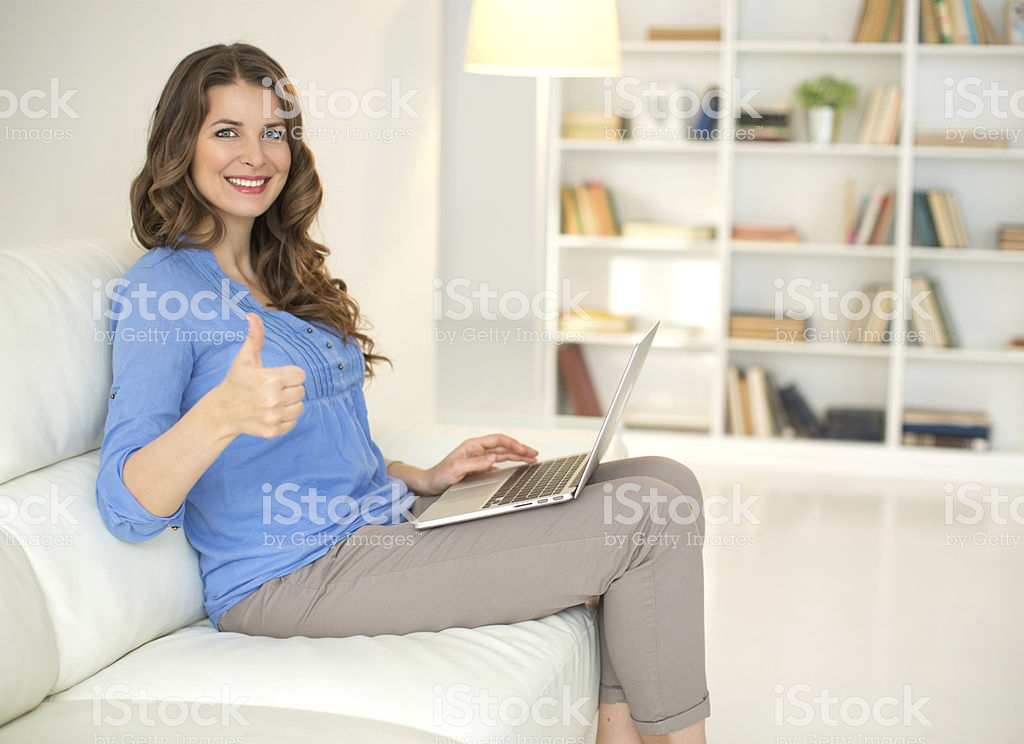thumbsup: (222, 311, 307, 440)
